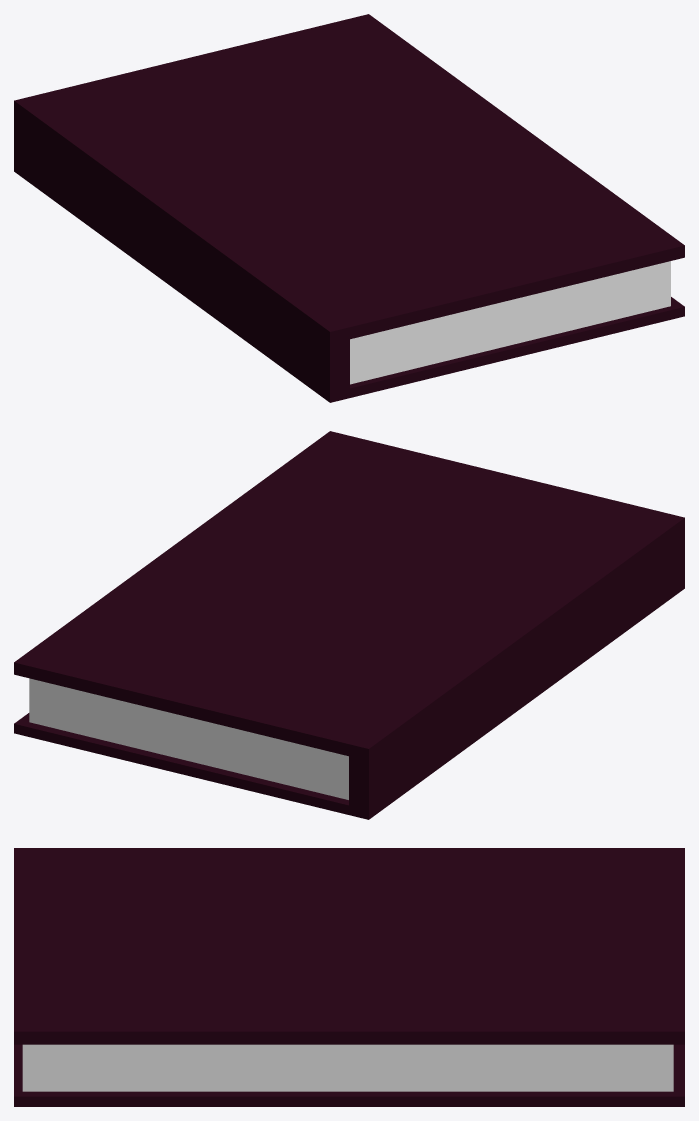
Rendered from Book.fbx.
3 renders of one model, top to bottom at view 1: azimuth 30°, elevation 25°; view 2: azimuth 150°, elevation 25°; view 3: azimuth 270°, elevation 25°, orthographic. The views are drawn at different scales.
Parts seen in each view (by area): view 1: Box008; view 2: Box008; view 3: Box008.
Part boxes in pixels (bbox=[...]): Box008: bbox=[14, 14, 684, 402]; Box008: bbox=[14, 431, 684, 819]; Box008: bbox=[14, 848, 684, 1106].
Size of the model in its own units: 3.54 by 0.6767 by 5.47.
